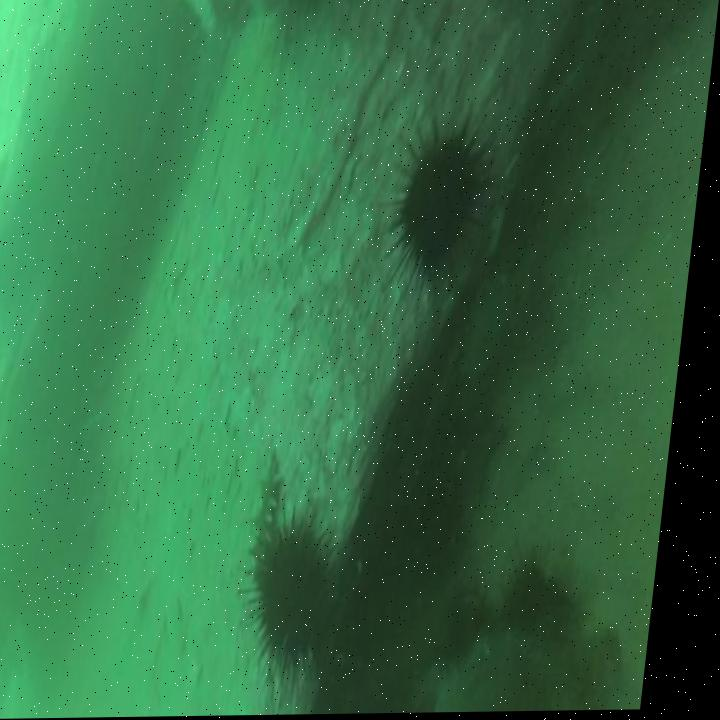echinus: (401, 136, 489, 278), (260, 532, 350, 665), (454, 589, 496, 663), (516, 572, 560, 630)
holothurian: (260, 455, 294, 549)
